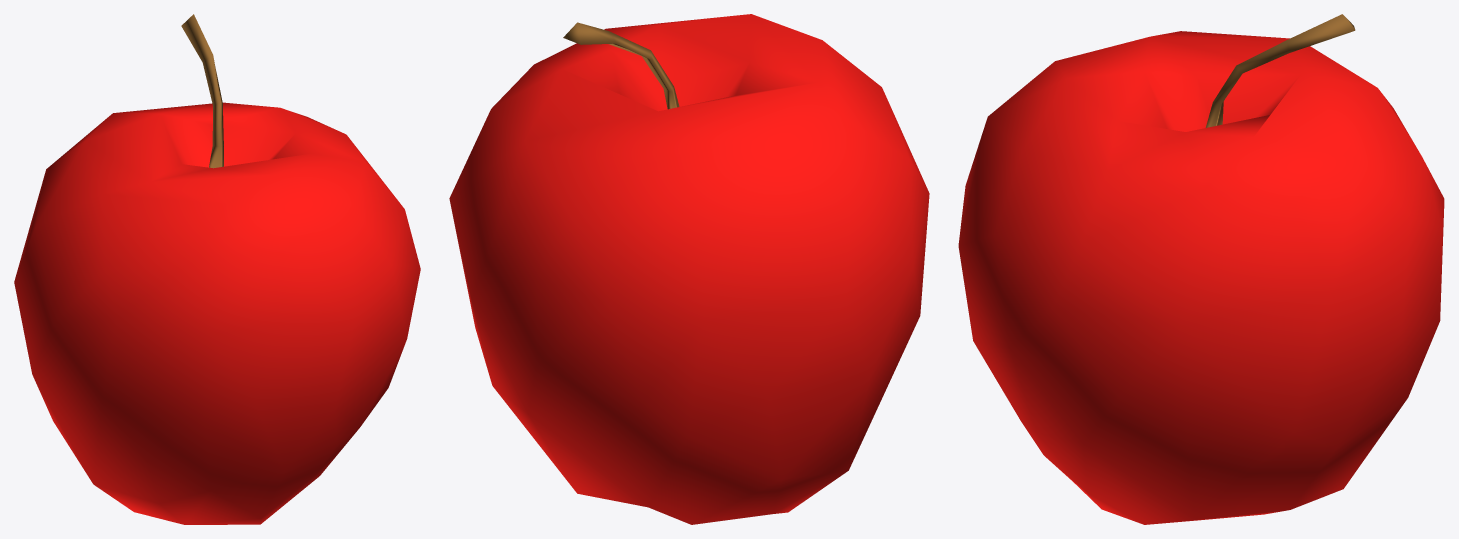
File: SM_Apple.fbx
3 renders of one model, left to right at view 1: azimuth 30°, elevation 25°; view 2: azimuth 150°, elevation 25°; view 3: azimuth 270°, elevation 25°, orthographic. The views are drawn at different scales.
Parts seen in each view (by area): view 1: Apple_k7nzrr; view 2: Apple_k7nzrr; view 3: Apple_k7nzrr.
Part boxes in pixels (box(x1,y1,x2,y2)): Apple_k7nzrr: box(14, 14, 420, 524); Apple_k7nzrr: box(449, 14, 929, 524); Apple_k7nzrr: box(958, 14, 1444, 524).
Size of the model in its own units: 13.91 by 16.62 by 14.13.
